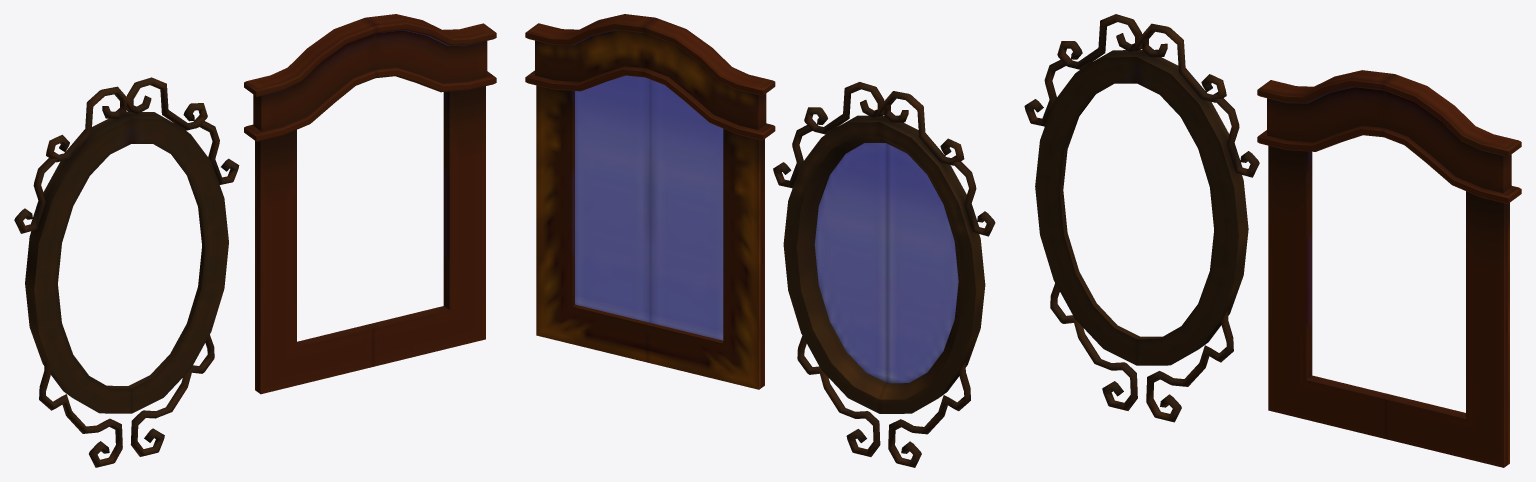
Rendered from Mirror1.gltf.
The picture shows the model from 3 angles, left to right: view 1: azimuth 30°, elevation 25°; view 2: azimuth 150°, elevation 25°; view 3: azimuth 330°, elevation 25°; orthographic projection. The views are drawn at different scales.
Visible parts, largest first — view 1: Mirror1; view 2: Mirror1; view 3: Mirror1.
Boxes of the visible parts, x1,y1,x2,y2 form: Mirror1: (14, 14, 496, 467); Mirror1: (525, 14, 995, 467); Mirror1: (1024, 14, 1521, 467).
Bounding box in the file's own units: 104 × 80.57 × 5.39.
1 material, 1 textured.
